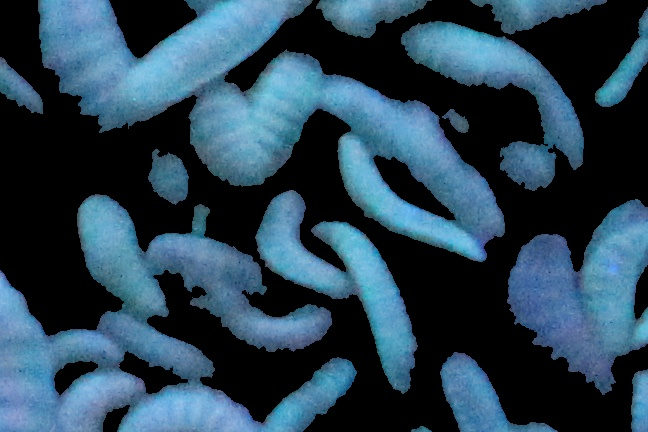larvae: (401, 25, 586, 162), (120, 1, 291, 121), (343, 141, 486, 249), (328, 208, 412, 389), (507, 229, 591, 391), (407, 104, 503, 231), (580, 185, 648, 359), (77, 193, 170, 318), (4, 263, 64, 432), (250, 181, 337, 295), (96, 303, 219, 381), (312, 65, 405, 153), (125, 375, 261, 432), (250, 52, 325, 154), (209, 291, 332, 350), (185, 92, 262, 185), (268, 359, 363, 429), (57, 368, 155, 432), (436, 348, 506, 432), (51, 322, 124, 363), (140, 1, 219, 5)
